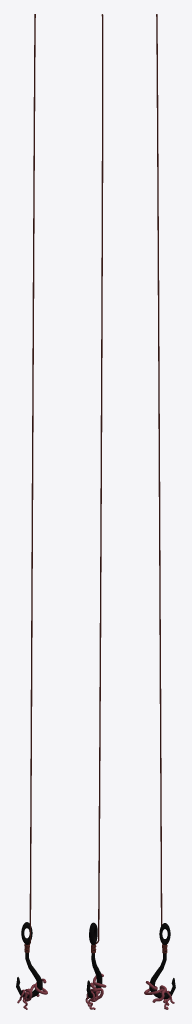
Rendered from Hook.fbx.
3 views of the same model, side by side, from view 1: azimuth 90°, elevation 25°; view 2: azimuth 150°, elevation 25°; view 3: azimuth 270°, elevation 25° (orthographic).
Visible parts, largest first — view 1: Rope, Hook, Bait; view 2: Rope, Hook, Bait; view 3: Rope, Hook, Bait.
Part boxes in pixels (x1=…): Rope: x1=24, y1=14, x2=35, y2=952; Hook: x1=16, y1=922, x2=42, y2=998; Bait: x1=23, y1=978, x2=47, y2=999; Rope: x1=91, y1=14, x2=103, y2=953; Hook: x1=86, y1=922, x2=102, y2=998; Bait: x1=90, y1=973, x2=106, y2=999; Rope: x1=156, y1=14, x2=167, y2=953; Hook: x1=149, y1=923, x2=175, y2=998; Bait: x1=144, y1=981, x2=166, y2=994.
Bounding box in the file's own units: 310 × 18457 × 536.
